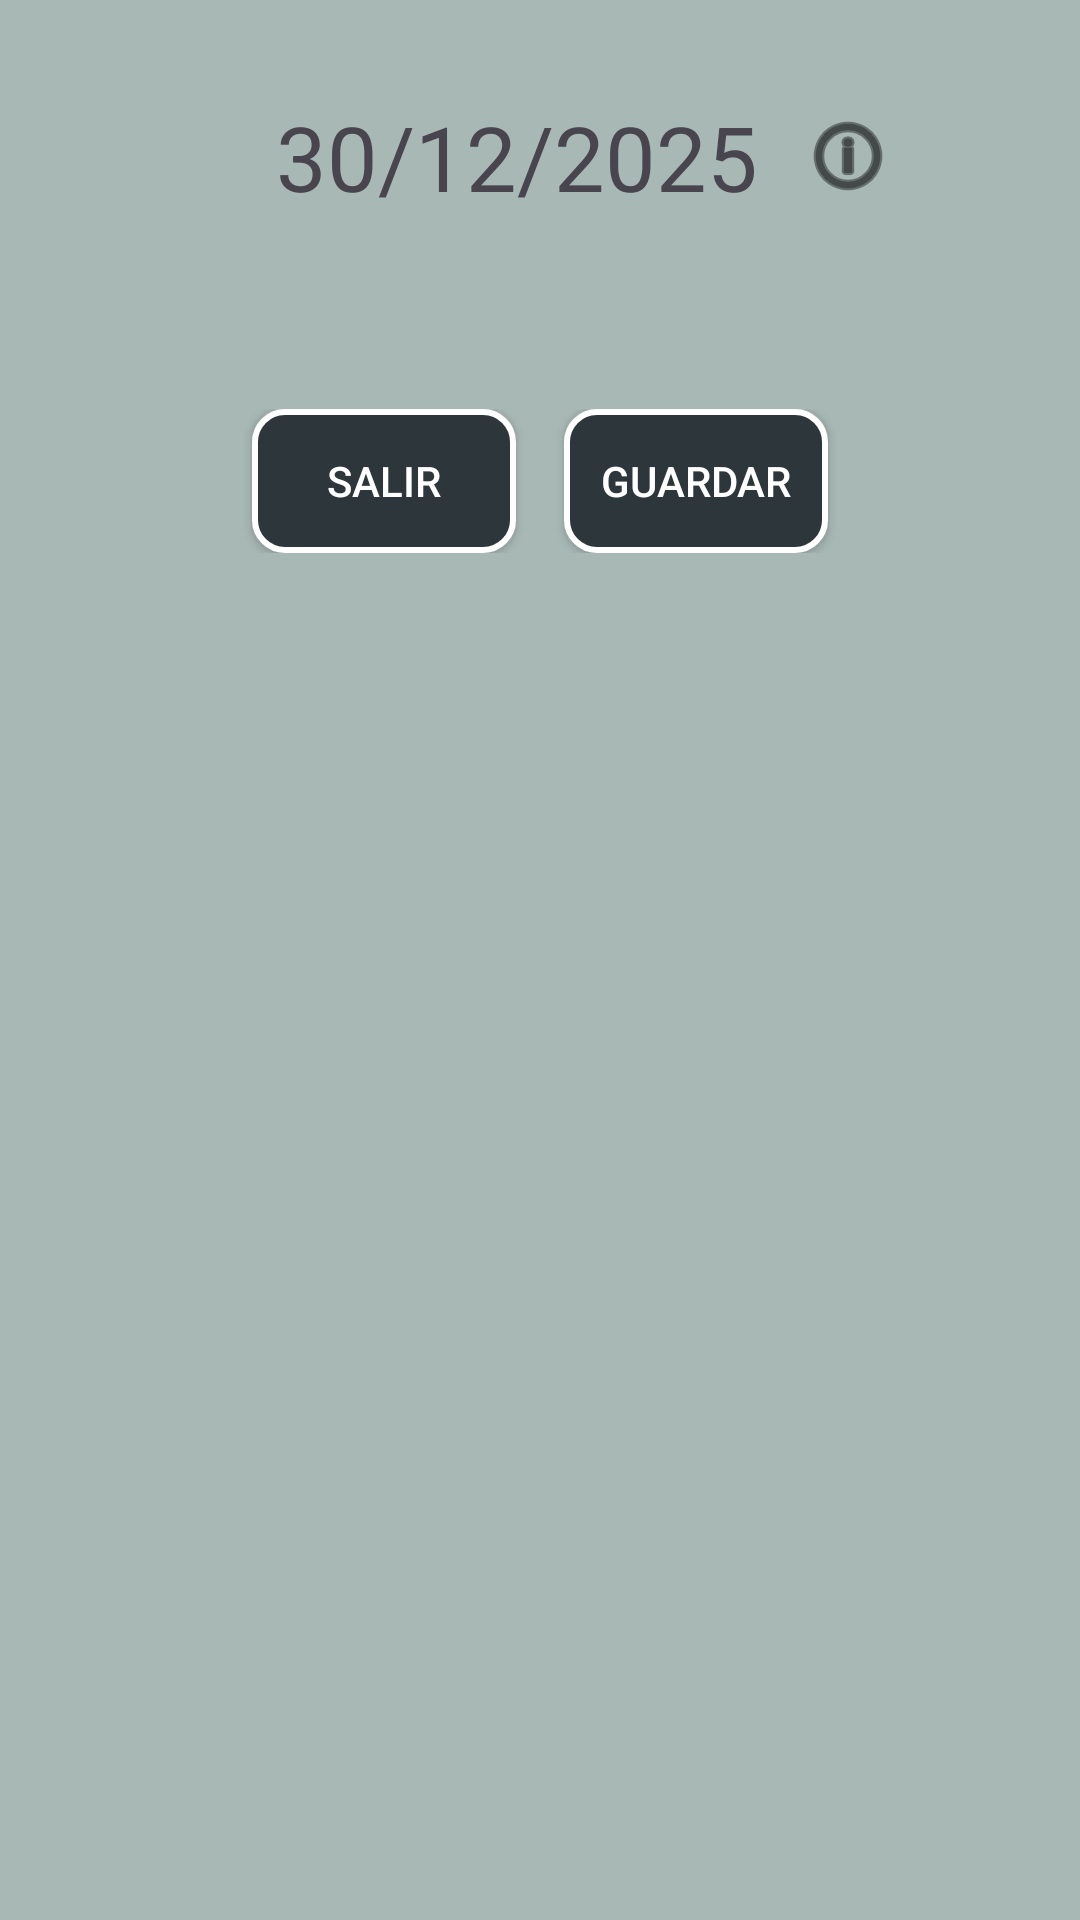

Point at icon controls on the screen. Image size 1080*1920, points as point (x, y).
Info: point (848, 156)
